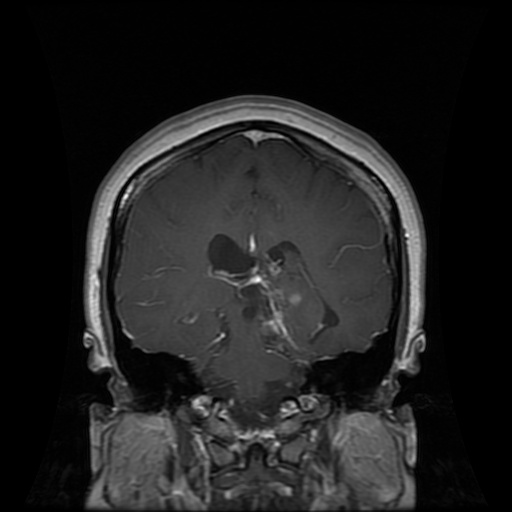glioma: (206, 230, 344, 360)
